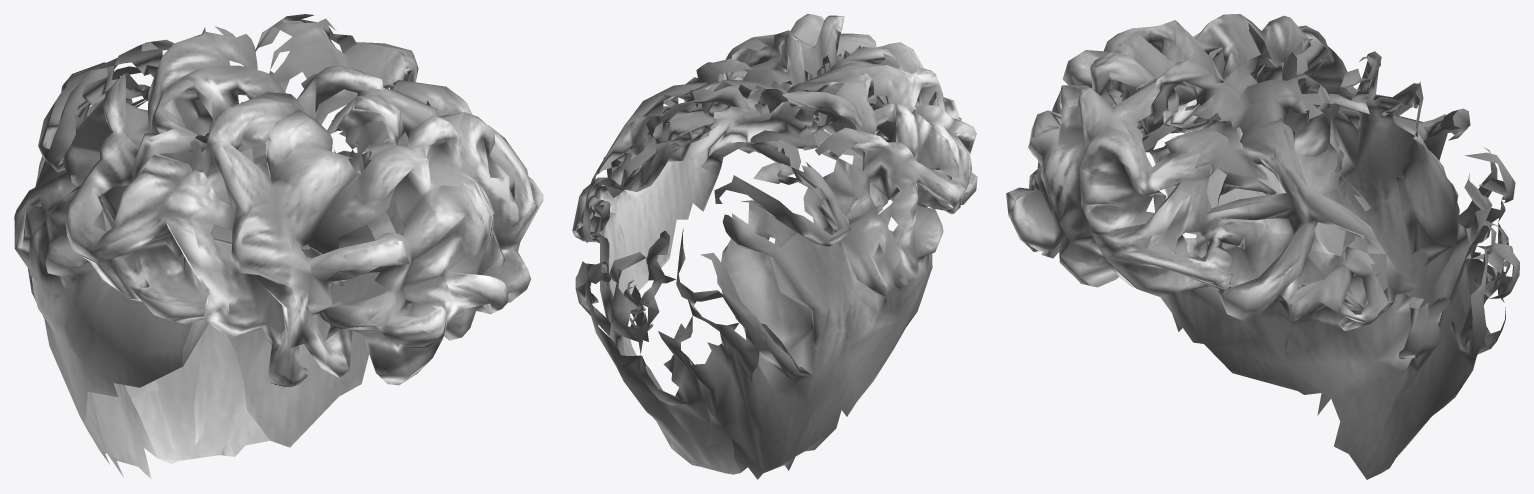
The model's file is curly-crop.glb.
The picture shows the model from 3 angles, left to right: view 1: azimuth 30°, elevation 25°; view 2: azimuth 150°, elevation 25°; view 3: azimuth 270°, elevation 25°; orthographic projection. The views are drawn at different scales.
Visible parts, largest first — view 1: curly-crop; view 2: curly-crop; view 3: curly-crop.
Boxes of the visible parts, <box> form: curly-crop: <box>14,14,543,479</box>; curly-crop: <box>572,14,977,479</box>; curly-crop: <box>1006,14,1519,479</box>.
Size of the model in its own units: 0.2081 by 0.2164 by 0.2492.
1 material, 1 textured.
